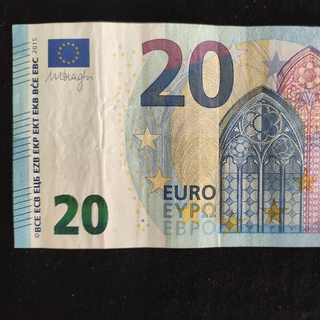20EUROFront: (11, 21, 320, 250)
